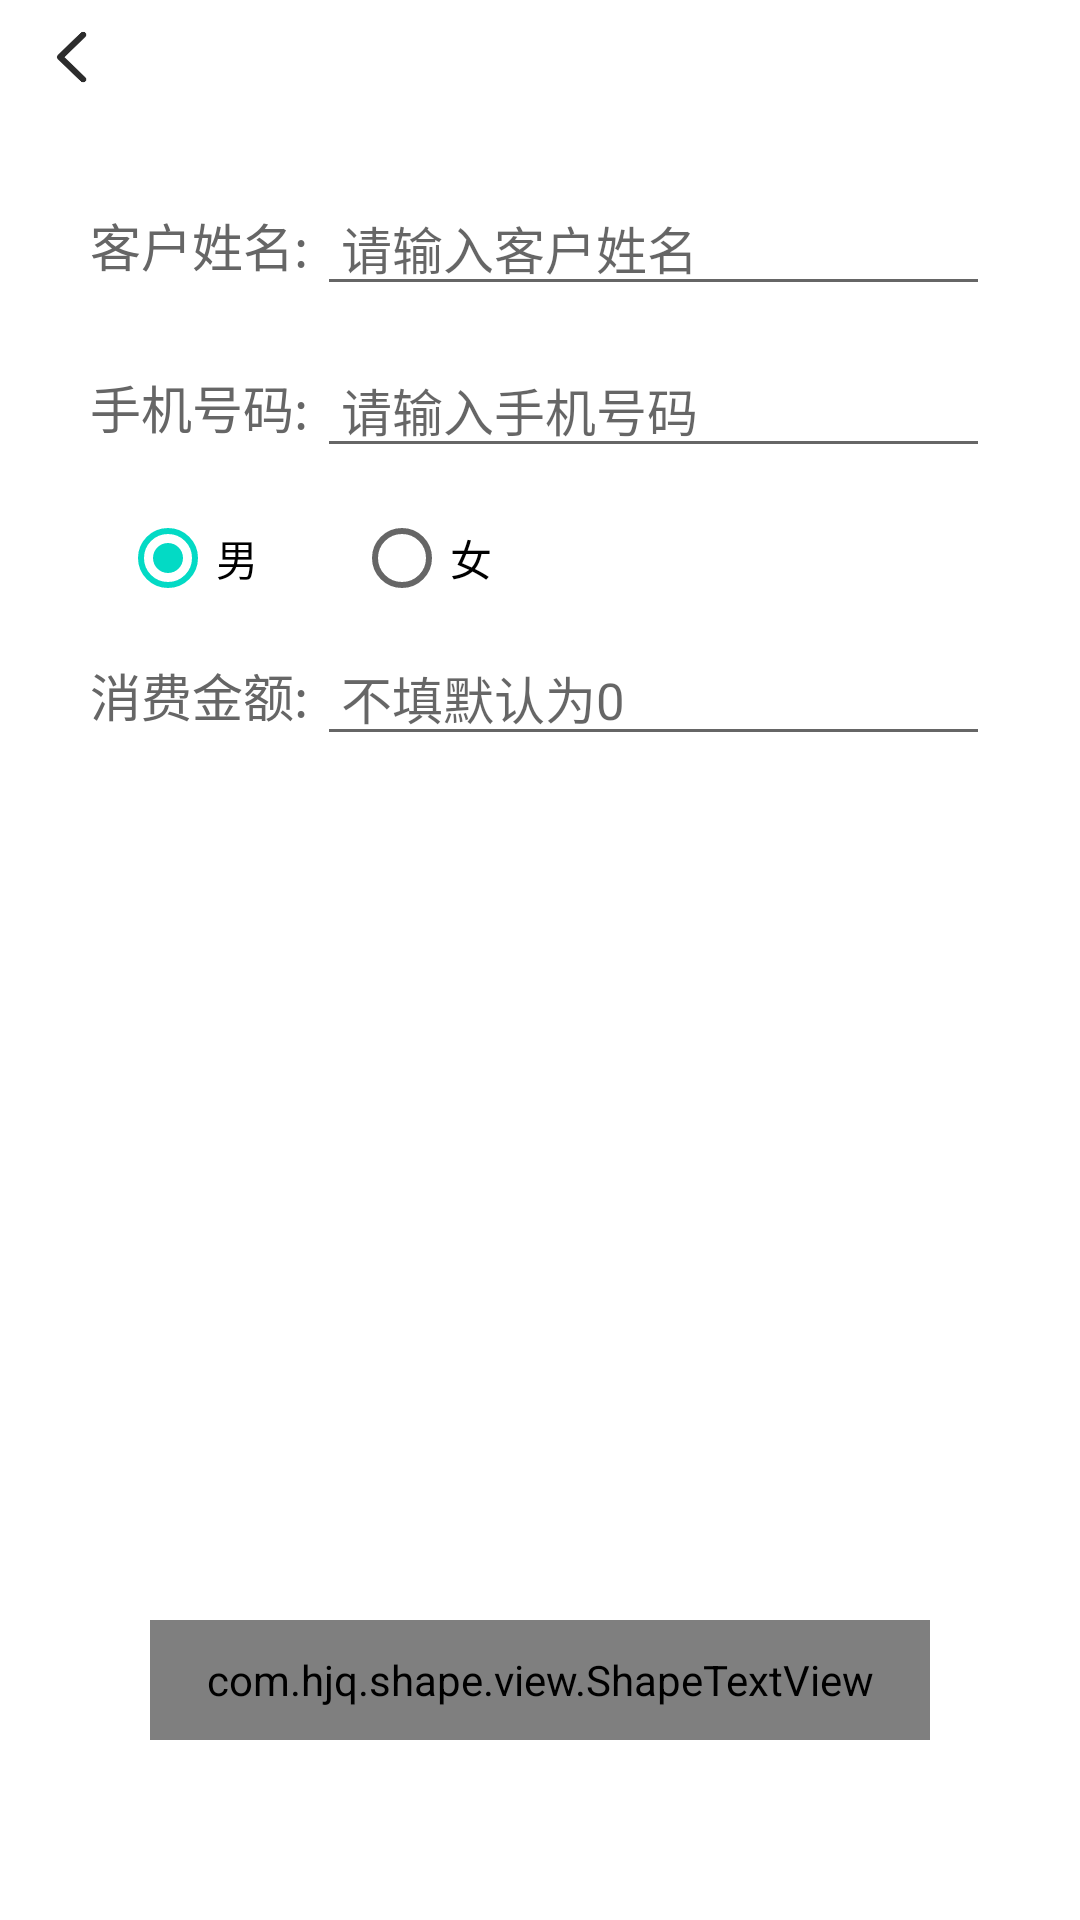

Icon bounding boxes for this 1080px×1920px phone screenshot, format (x1,y1,x2,y2):
title back: (57,32,87,83)
